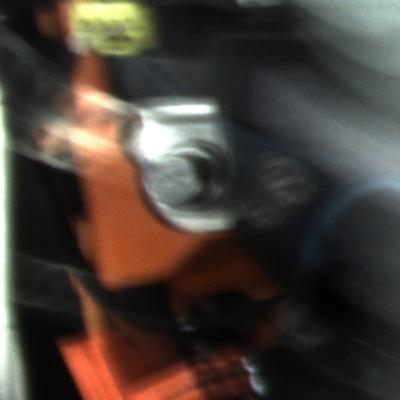nut_b: (144, 132, 235, 213)
